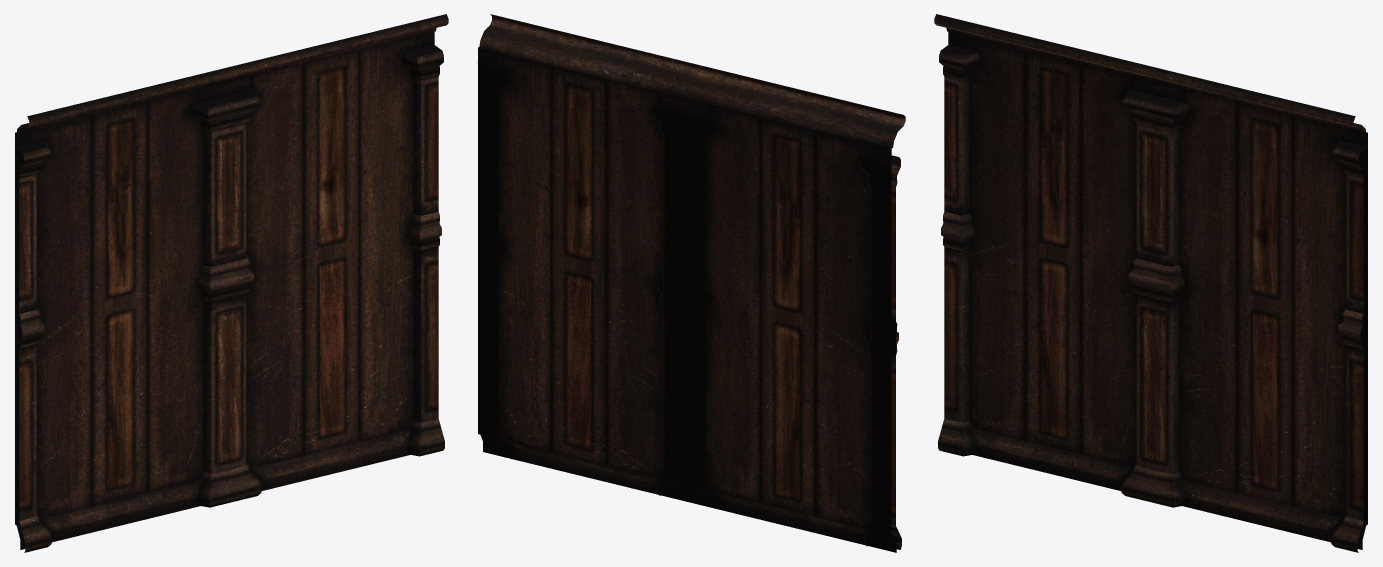
The model's file is default02_notop.DAE.
3 renders of one model, left to right at view 1: azimuth 30°, elevation 25°; view 2: azimuth 150°, elevation 25°; view 3: azimuth 330°, elevation 25°, orthographic.
Visible parts, largest first — view 1: default003; view 2: default003; view 3: default003.
Boxes of the visible parts, x1,y1,x2,y2 form: default003: (15, 14, 448, 552); default003: (477, 14, 905, 552); default003: (934, 14, 1367, 552).
Size of the model in its own units: 4 by 4 by 0.2475.
